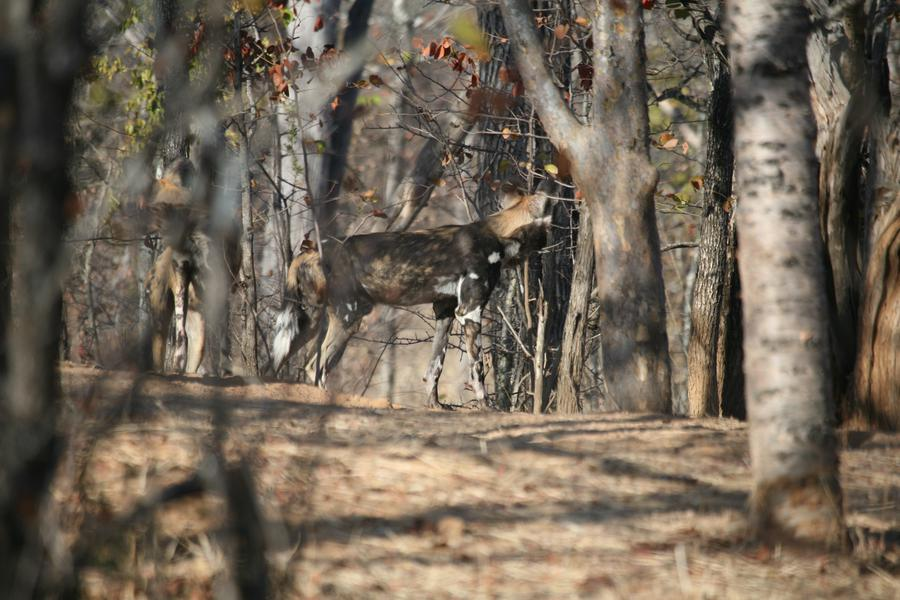wilddog: (296, 187, 562, 343), (138, 179, 195, 367)
